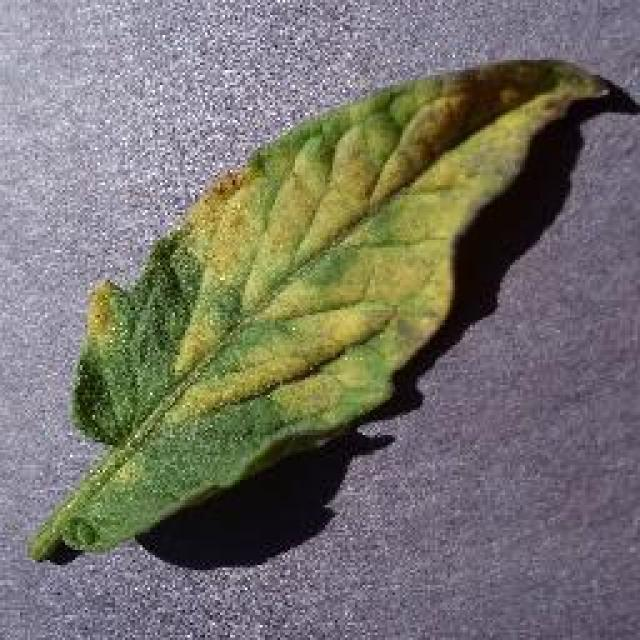Tomato mold leaf: (30, 55, 618, 567)
